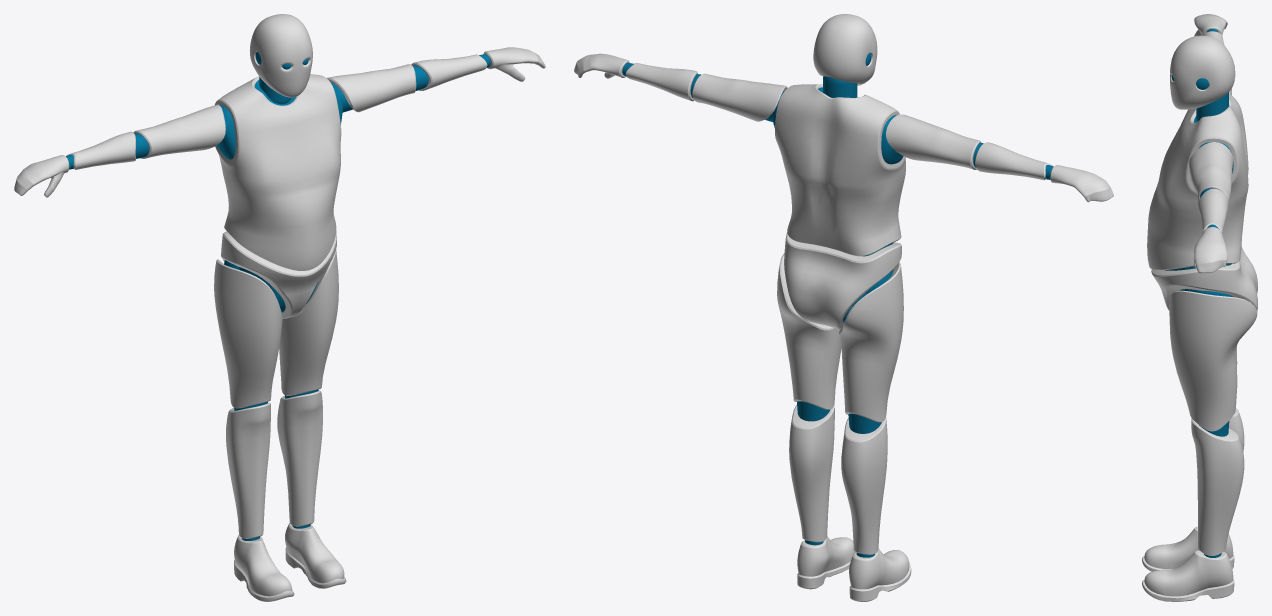
Rendered from DHM_Rigged.fbx.
3 renders of one model, left to right at view 1: azimuth 30°, elevation 25°; view 2: azimuth 150°, elevation 25°; view 3: azimuth 270°, elevation 25°, orthographic. The views are drawn at different scales.
Visible parts, largest first — view 1: 3DGeom~279, 3DGeom~280; view 2: 3DGeom~279, 3DGeom~280; view 3: 3DGeom~279, 3DGeom~280.
Boxes of the visible parts, box(x1,y1,x2,y2) form: 3DGeom~279: box(14, 14, 545, 601); 3DGeom~280: box(66, 52, 490, 540); 3DGeom~279: box(574, 14, 1113, 601); 3DGeom~280: box(622, 52, 1053, 557); 3DGeom~279: box(1142, 14, 1257, 601); 3DGeom~280: box(1165, 29, 1233, 557).
Size of the model in its own units: 181 by 183 by 35.45.
